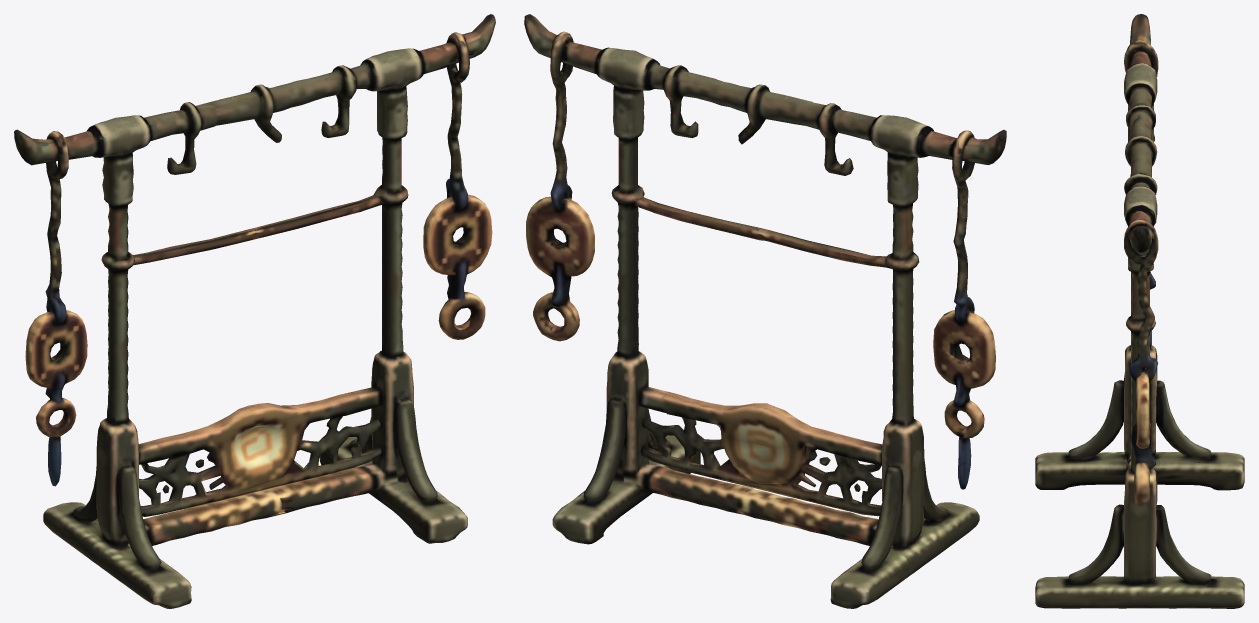
File: Infrimary_Antique_block_and_tac.glb
3 views of the same model, side by side, from view 1: azimuth 30°, elevation 25°; view 2: azimuth 150°, elevation 25°; view 3: azimuth 270°, elevation 25° (orthographic). The views are drawn at different scales.
Bounding box in the file's own units: 1.91 × 1.76 × 0.7868.
1 material, 1 textured.
